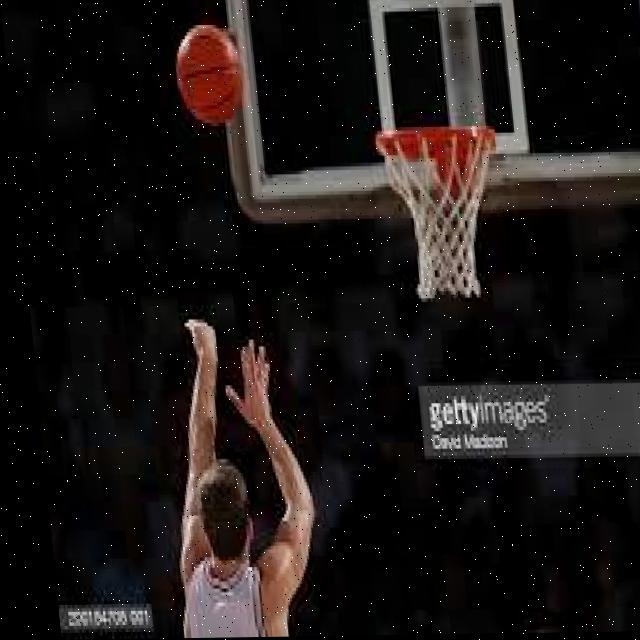basketball: (175, 28, 246, 120)
hoop: (374, 126, 506, 296)
